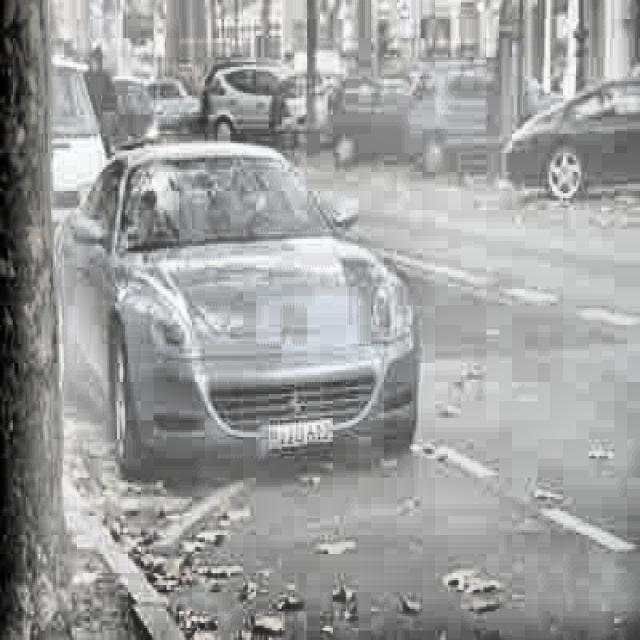license_plate: (267, 419, 339, 452)
